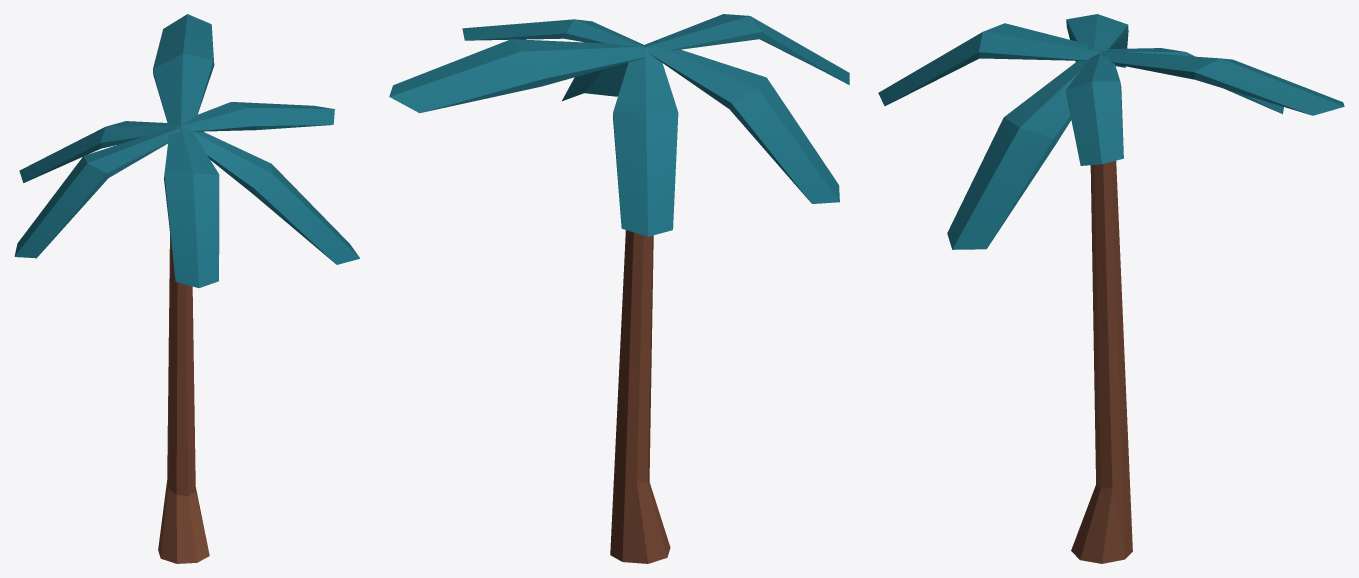
File: Tree_39_gradient_blue_vc.fbx
3 views of the same model, side by side, from view 1: azimuth 30°, elevation 25°; view 2: azimuth 150°, elevation 25°; view 3: azimuth 270°, elevation 25° (orthographic). The views are drawn at different scales.
Parts seen in each view (by area): view 1: Tree_39_gradient_blue_vc; view 2: Tree_39_gradient_blue_vc; view 3: Tree_39_gradient_blue_vc.
Boxes of the visible parts, x1,y1,x2,y2 form: Tree_39_gradient_blue_vc: (14,14,359,563); Tree_39_gradient_blue_vc: (389,14,849,563); Tree_39_gradient_blue_vc: (878,14,1344,563).
Size of the model in its own units: 152 by 204 by 166.
